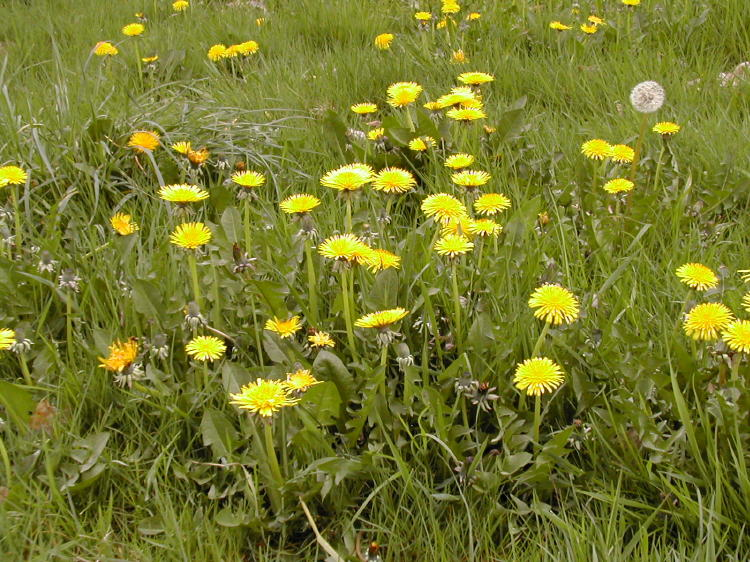dandelion: (684, 304, 749, 357), (528, 283, 582, 331), (450, 73, 490, 133), (512, 357, 571, 394), (421, 189, 472, 226), (327, 161, 370, 198), (245, 375, 288, 412), (678, 263, 721, 299), (207, 38, 260, 65), (275, 186, 316, 218), (4, 158, 43, 190), (159, 181, 207, 206), (191, 335, 230, 364), (386, 80, 421, 112), (173, 225, 216, 249), (360, 307, 403, 331), (322, 234, 358, 261), (578, 134, 615, 160), (122, 17, 151, 50), (435, 233, 471, 259), (375, 170, 411, 193), (603, 176, 635, 198), (651, 118, 681, 137), (479, 195, 507, 213), (352, 103, 379, 115)
